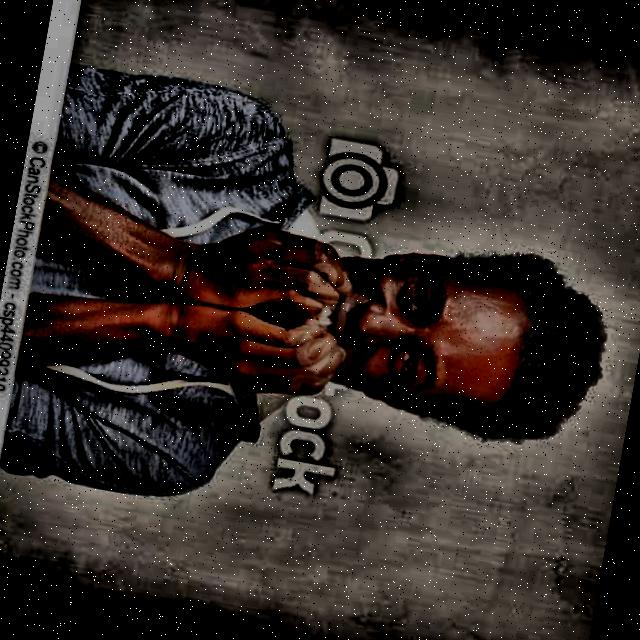fear: (227, 195, 630, 466)
